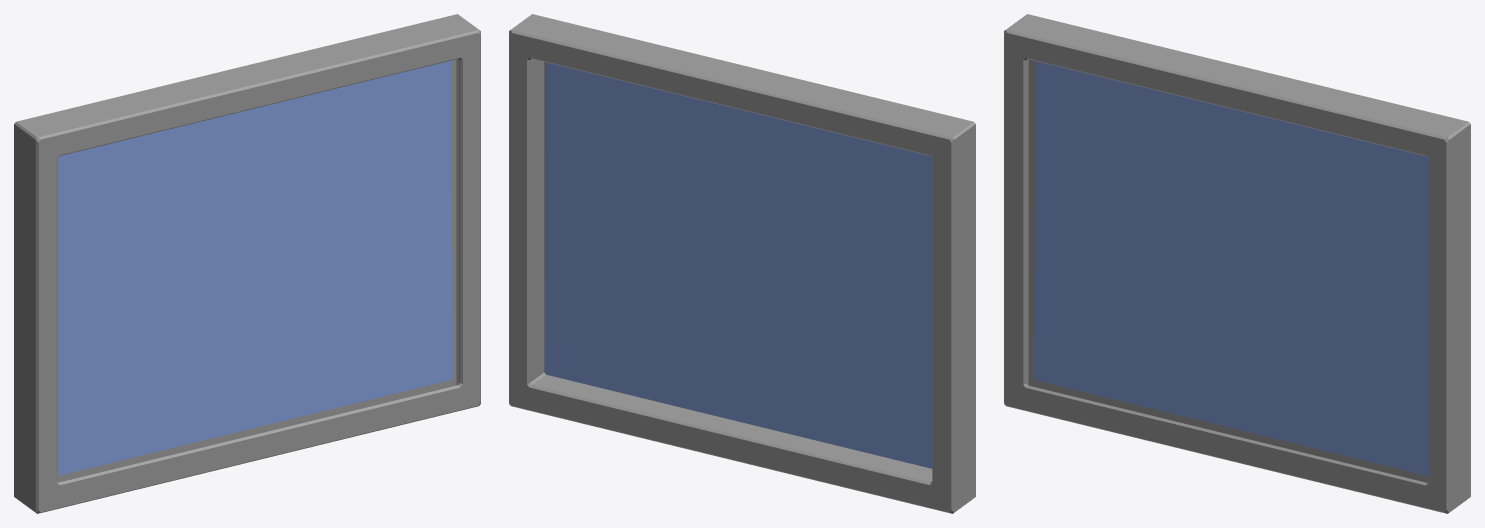
Rendered from big window.fbx.
3 views of the same model, side by side, from view 1: azimuth 30°, elevation 25°; view 2: azimuth 150°, elevation 25°; view 3: azimuth 330°, elevation 25° (orthographic).
Visible parts, largest first — view 1: Cube.001; view 2: Cube.001; view 3: Cube.001.
Boxes of the visible parts, <box> form: Cube.001: <box>14,14,480,513</box>; Cube.001: <box>509,14,975,513</box>; Cube.001: <box>1004,14,1470,513</box>.
Size of the model in its own units: 8.1 by 6.54 by 0.7495.
